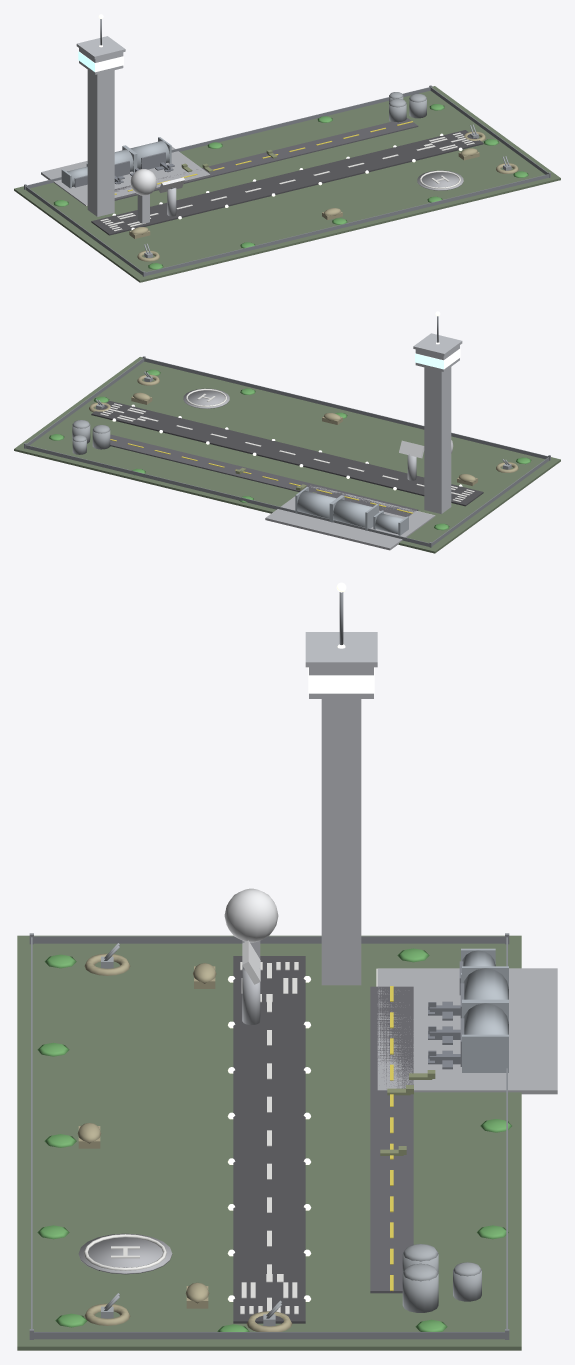
3 views of the same model, one above another, from view 1: azimuth 30°, elevation 25°; view 2: azimuth 150°, elevation 25°; view 3: azimuth 270°, elevation 25° (orthographic). The views are drawn at different scales.
Visible parts, largest first — view 1: base; view 2: base; view 3: base.
Part boxes in pixels (x1,y1,x2,y2): base: (14, 14, 560, 282); base: (14, 311, 560, 553); base: (17, 582, 557, 1350).
Bounding box in the file's own units: 2.7 × 1.22 × 1.5.
